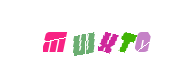0: (87, 0, 167, 80)
M: (35, 0, 115, 80)
T: (86, 0, 166, 80)
W: (45, 0, 125, 80)
X: (52, 0, 132, 80)
